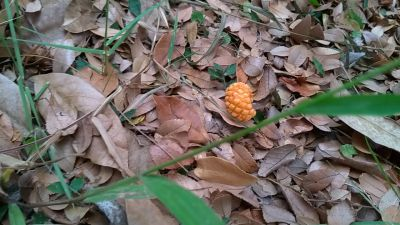eggs: (220, 80, 258, 123)
